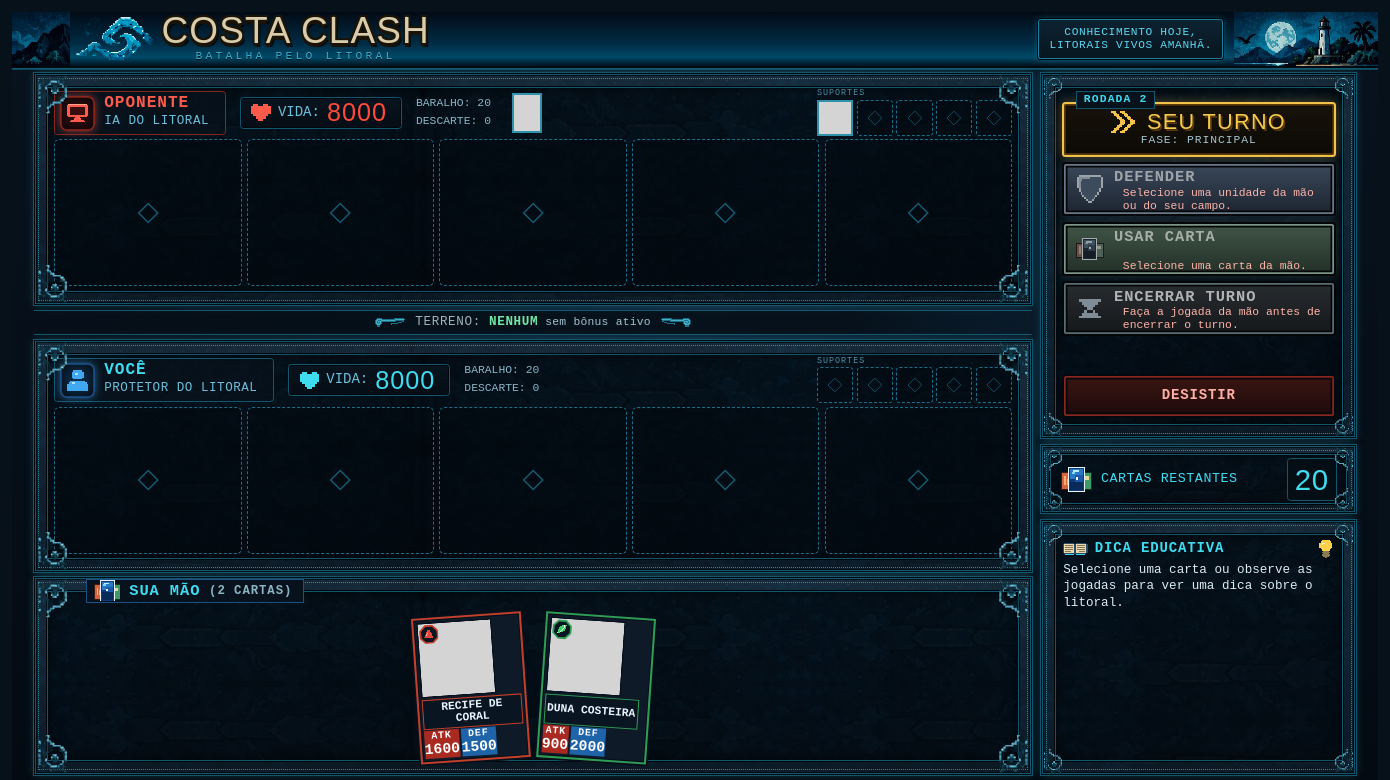
it: QA arrasto: bordas › o fantasma do arrasto contém só a carta do jogador (nada do oponente) e é aria-hidden
Press the mouse on the button with aria-label "Mão 1:": (471,687) [411, 611, 530, 764]
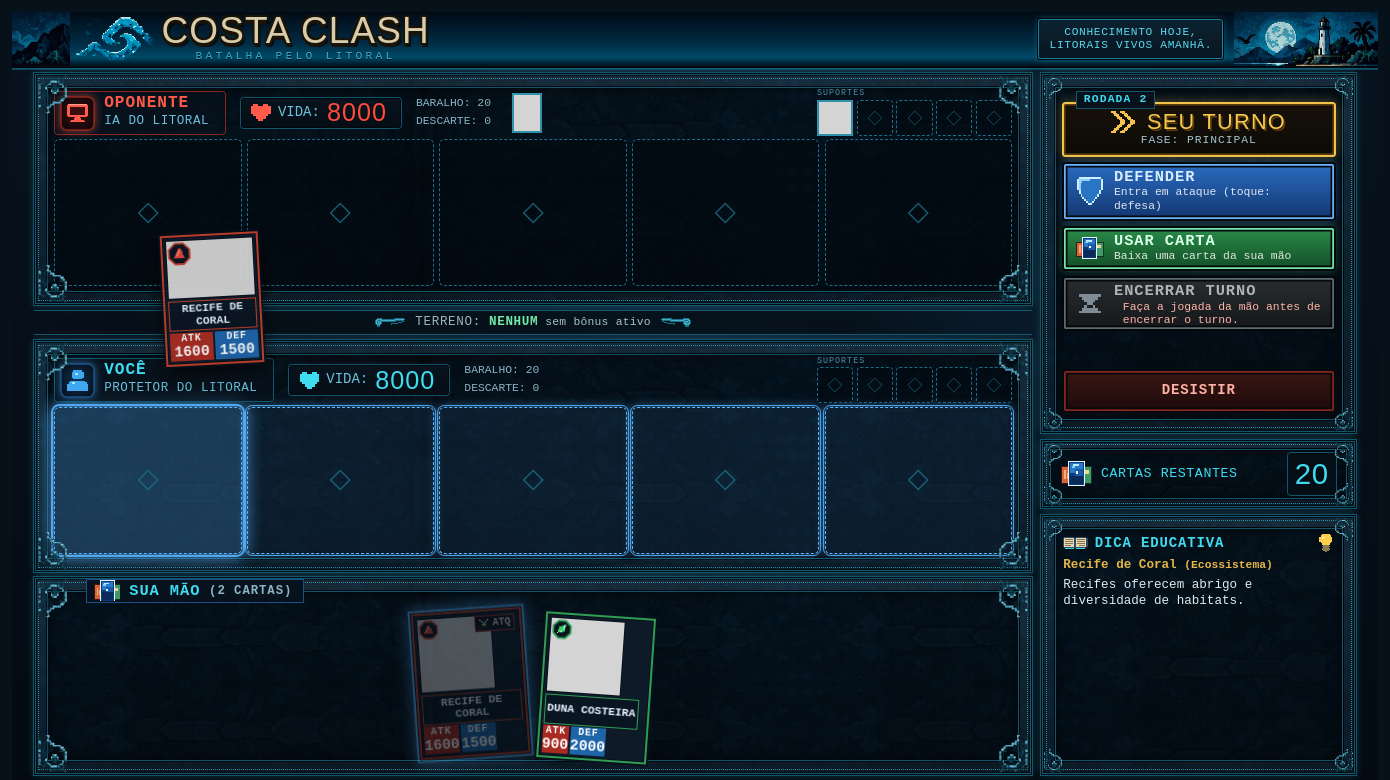
Expected: the element with class "duelo-arrasto-fantasma" shows "Recife de Coral", [182, 300, 243, 327]
